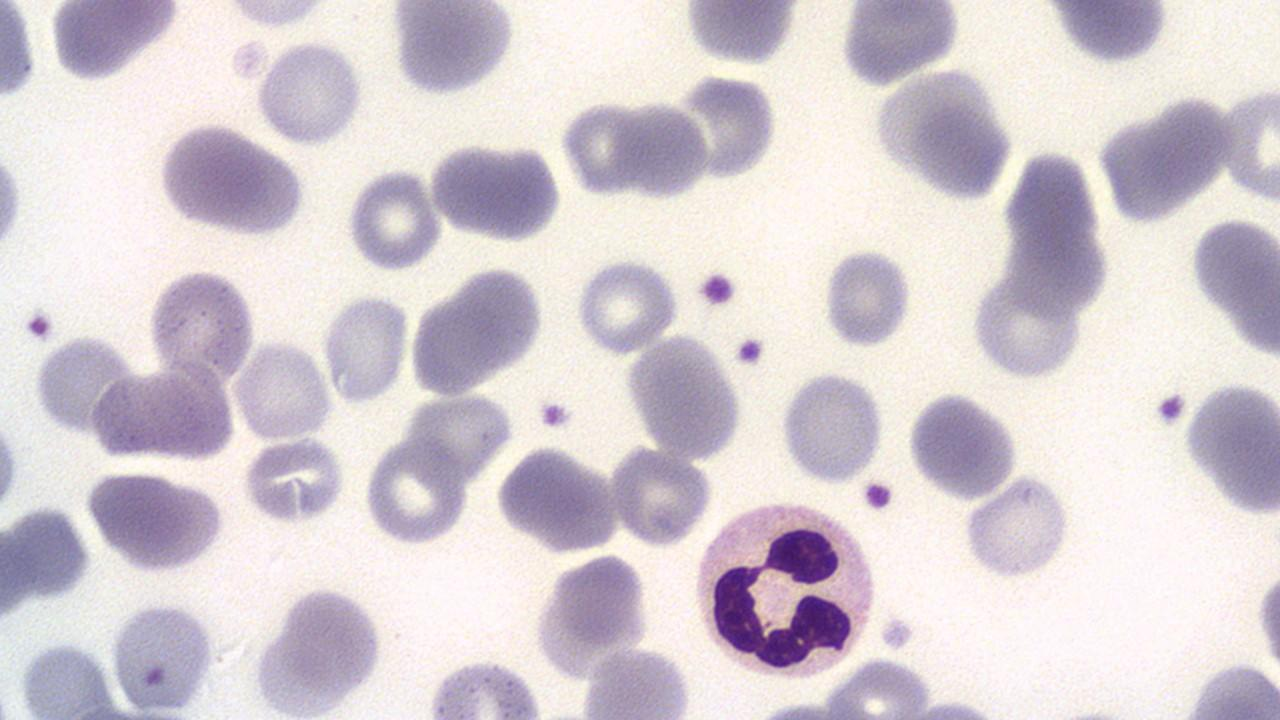Platelets: (957, 475, 1076, 585), (816, 242, 918, 352), (0, 2, 38, 104), (0, 151, 24, 255), (0, 410, 21, 516), (694, 266, 740, 312), (878, 613, 918, 653), (1153, 388, 1189, 430), (23, 305, 56, 346), (860, 478, 896, 514), (536, 397, 574, 431), (732, 334, 768, 369)
RBC: (622, 329, 745, 464), (493, 441, 620, 555), (1179, 376, 1279, 518), (144, 263, 257, 387), (904, 386, 1024, 502), (776, 366, 890, 488), (968, 270, 1086, 382), (386, 0, 516, 101), (109, 598, 220, 714), (252, 37, 368, 147), (959, 475, 1073, 584), (363, 436, 471, 548), (676, 70, 778, 184), (342, 164, 444, 272), (606, 445, 712, 548), (572, 255, 682, 354), (232, 337, 334, 441), (320, 289, 410, 405), (240, 432, 348, 526), (620, 94, 710, 206), (560, 96, 644, 201), (680, 2, 804, 66), (1217, 79, 1279, 206), (0, 0, 38, 106), (1251, 555, 1279, 688), (218, 0, 335, 31), (0, 403, 23, 522)
WBC: (4, 0, 836, 720), (800, 0, 1280, 720), (690, 492, 884, 684), (402, 258, 552, 403), (864, 66, 1018, 206), (151, 117, 313, 239), (245, 581, 390, 717), (80, 465, 230, 577), (777, 364, 891, 490), (956, 474, 1079, 587), (907, 386, 1024, 502), (389, 0, 522, 102), (110, 598, 224, 714), (501, 442, 622, 550), (43, 1, 190, 84), (833, 1, 965, 86), (1, 502, 94, 608), (1040, 1, 1176, 68), (419, 654, 551, 716), (684, 6, 804, 67)
